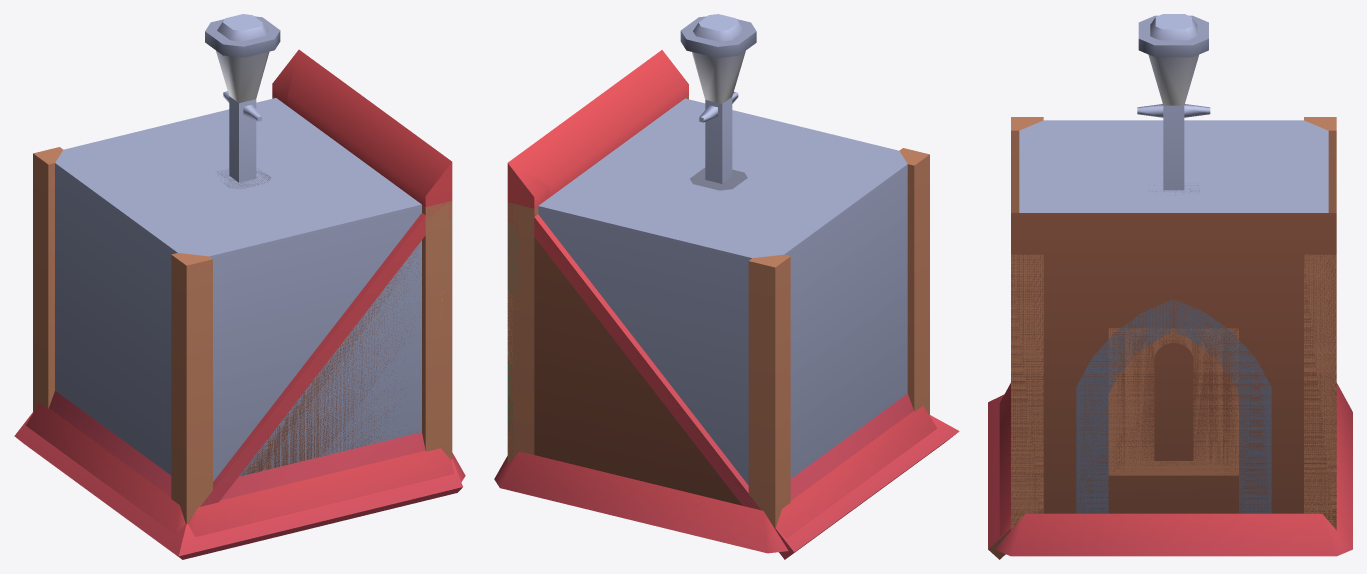
The model's file is hall.glb.
3 views of the same model, side by side, from view 1: azimuth 30°, elevation 25°; view 2: azimuth 150°, elevation 25°; view 3: azimuth 270°, elevation 25° (orthographic). The views are drawn at different scales.
Parts seen in each view (by area): view 1: wall-block, roof-high, roof-high-point, wall, roof-high-corner, lantern; view 2: wall-block, roof-high-corner, roof-high, roof-high-point, lantern, wall, pillar-stone; view 3: roof-high, wall-block, roof-high-corner, roof-high-point, wall, wall-doorway-round, lantern, wall-window-round, wall-window-glass, wall-window-shutters.
Part boxes in pixels (x1,y1,x2,y2): wall-block: [33, 98, 432, 524]; roof-high: [14, 49, 452, 552]; roof-high-point: [26, 391, 465, 536]; wall: [272, 96, 452, 459]; roof-high-corner: [15, 50, 462, 559]; lantern: [205, 14, 280, 182]; wall-block: [507, 96, 929, 528]; roof-high-corner: [507, 164, 959, 551]; roof-high: [507, 50, 948, 559]; roof-high-point: [494, 393, 937, 553]; lantern: [680, 14, 756, 183]; wall: [507, 96, 688, 463]; pillar-stone: [690, 167, 747, 190]; roof-high: [1011, 213, 1336, 529]; wall-block: [1011, 117, 1336, 523]; roof-high-corner: [988, 213, 1336, 559]; roof-high-point: [995, 383, 1352, 556]; wall: [1011, 254, 1336, 529]; wall-doorway-round: [1076, 299, 1271, 513]; lantern: [1137, 14, 1210, 190]; wall-window-round: [1138, 328, 1209, 475]; wall-window-glass: [1125, 328, 1222, 475]; wall-window-shutters: [1108, 328, 1238, 475].
Bounding box in the file's own units: 1.12 × 1.59 × 1.12.
1 material, 1 textured.
